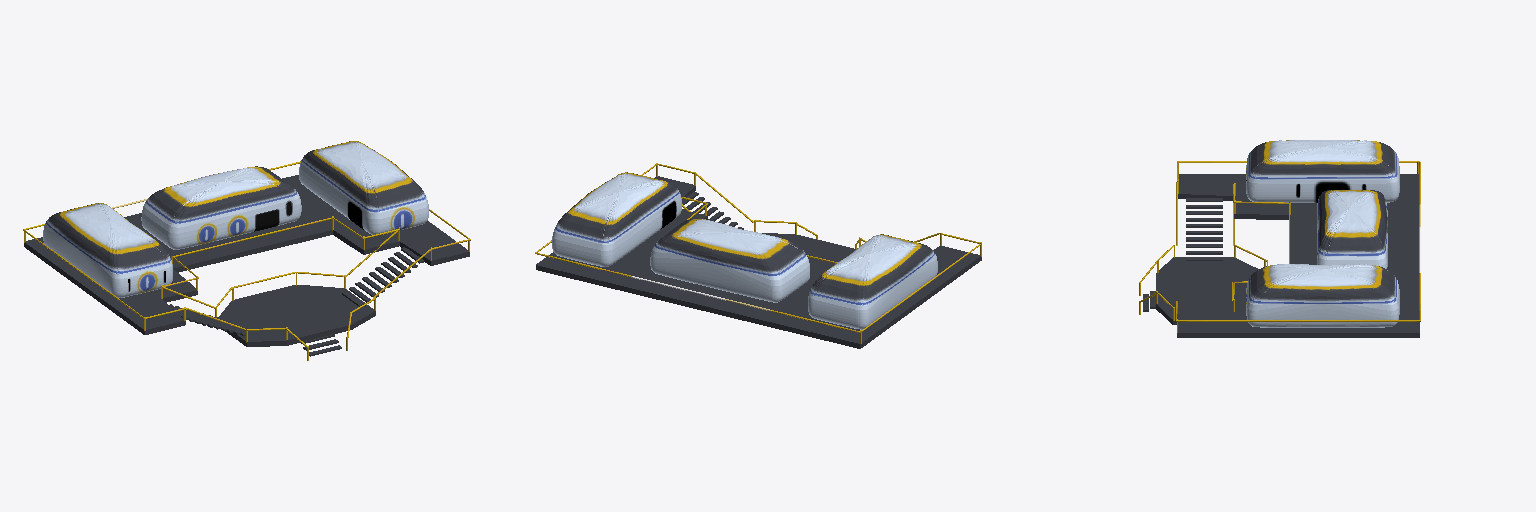
The picture shows the model from 3 angles: view 1: azimuth 30°, elevation 25°; view 2: azimuth 150°, elevation 25°; view 3: azimuth 270°, elevation 25°; orthographic projection.
Parts seen in each view (by area): view 1: Capsulas_Laterales_Roundcube.001, P1_Cube.001, Capsula_central_Roundcube, PB_Cube.002, Escaleras_P1_Cube.004, P1.Railing; view 2: Capsulas_Laterales_Roundcube.001, P1_Cube.001, Capsula_central_Roundcube, PB_Cube.002, P1.Railing; view 3: Capsulas_Laterales_Roundcube.001, P1_Cube.001, Capsula_central_Roundcube, PB_Cube.002, Escaleras_P1_Cube.004, P1.Railing.
Part boxes in pixels (left/top/right/bottom): Capsulas_Laterales_Roundcube.001: left=43, top=141, right=428, bottom=297; P1_Cube.001: left=24, top=175, right=469, bottom=334; Capsula_central_Roundcube: left=141, top=166, right=301, bottom=249; PB_Cube.002: left=218, top=285, right=375, bottom=346; Escaleras_P1_Cube.004: left=169, top=247, right=423, bottom=336; P1.Railing: left=23, top=161, right=470, bottom=318; Capsulas_Laterales_Roundcube.001: left=552, top=172, right=937, bottom=329; P1_Cube.001: left=536, top=176, right=981, bottom=348; Capsula_central_Roundcube: left=650, top=218, right=809, bottom=302; PB_Cube.002: left=762, top=233, right=855, bottom=271; P1.Railing: left=535, top=164, right=981, bottom=332; Capsulas_Laterales_Roundcube.001: left=1246, top=140, right=1399, bottom=327; P1_Cube.001: left=1177, top=174, right=1419, bottom=337; Capsula_central_Roundcube: left=1317, top=190, right=1387, bottom=268; PB_Cube.002: left=1156, top=257, right=1257, bottom=324; Escaleras_P1_Cube.004: left=1186, top=198, right=1222, bottom=260; P1.Railing: left=1176, top=161, right=1420, bottom=321.
Size of the model in its own units: 20.24 by 5.76 by 15.14.
Materials: 1 (1 with a texture image).